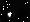person: (8, 10, 14, 20)
